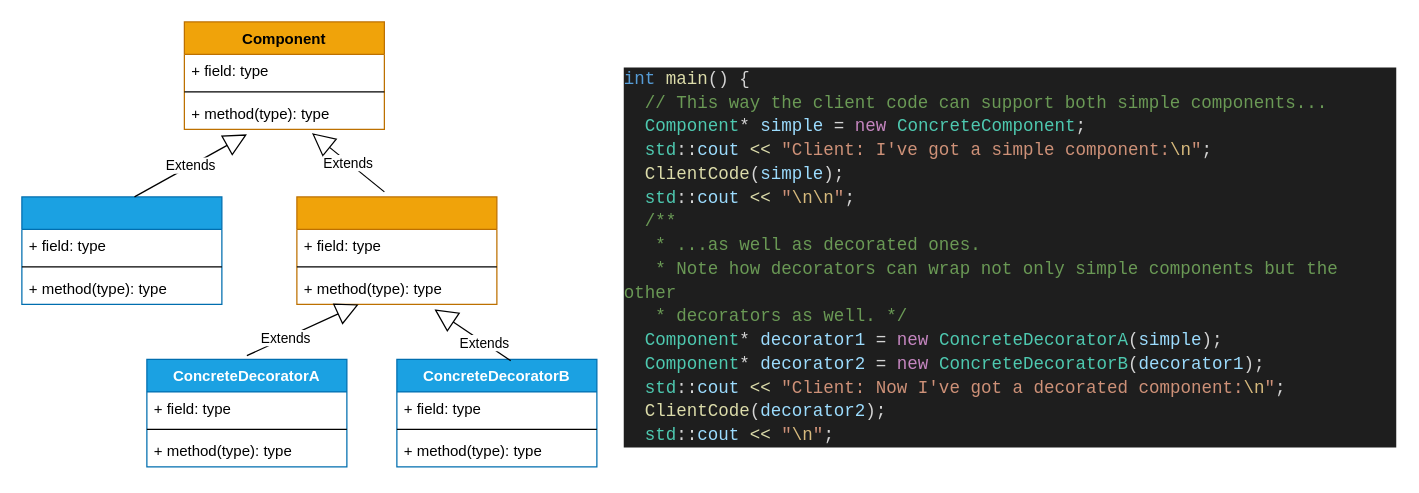
Some shapes in this 1419 by 493 pixel diagram are drawn without their labels. Here are the shapes that lost their labels. From the top down, the box of each, then its label:
(21, 196, 222, 304): ConcreteComponent
(296, 196, 497, 304): Decorator
